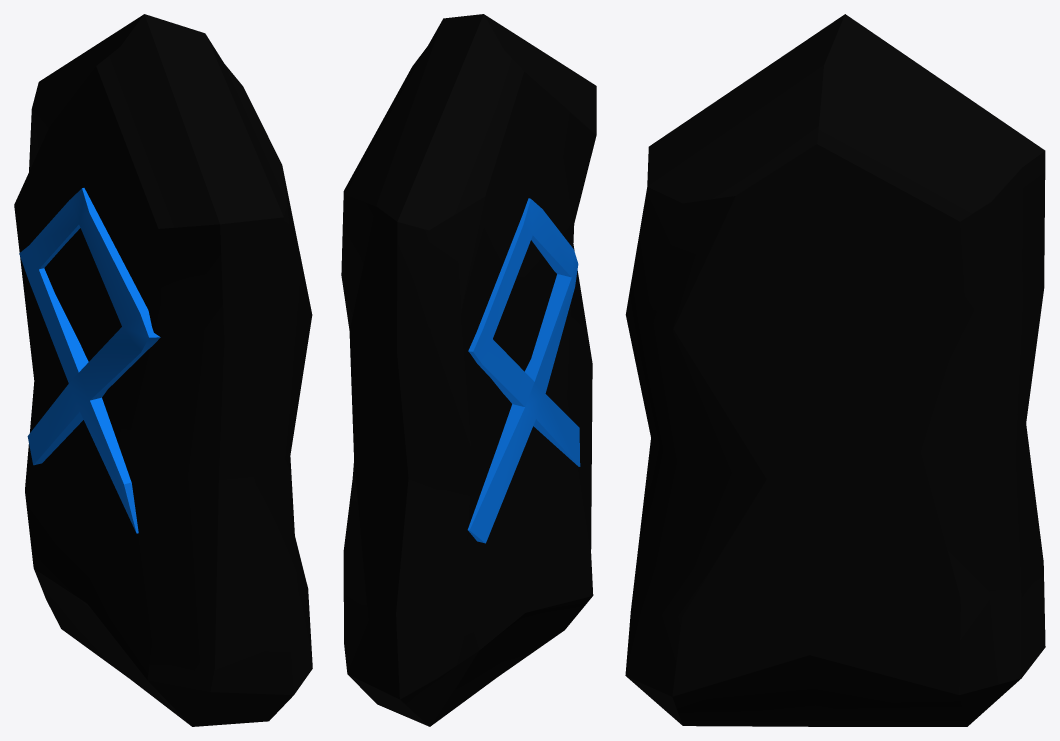
Rendered from export_rune1.fbx.
3 renders of one model, left to right at view 1: azimuth 30°, elevation 25°; view 2: azimuth 150°, elevation 25°; view 3: azimuth 270°, elevation 25°, orthographic. The views are drawn at different scales.
Visible parts, largest first — view 1: Bloc_de_pierre; view 2: Bloc_de_pierre; view 3: Bloc_de_pierre.
Part boxes in pixels (left/top/right/bottom): Bloc_de_pierre: left=14, top=14, right=312, bottom=726; Bloc_de_pierre: left=341, top=14, right=596, bottom=726; Bloc_de_pierre: left=625, top=14, right=1045, bottom=726.
Bounding box in the file's own units: 16.47 × 72.41 × 40.04.
